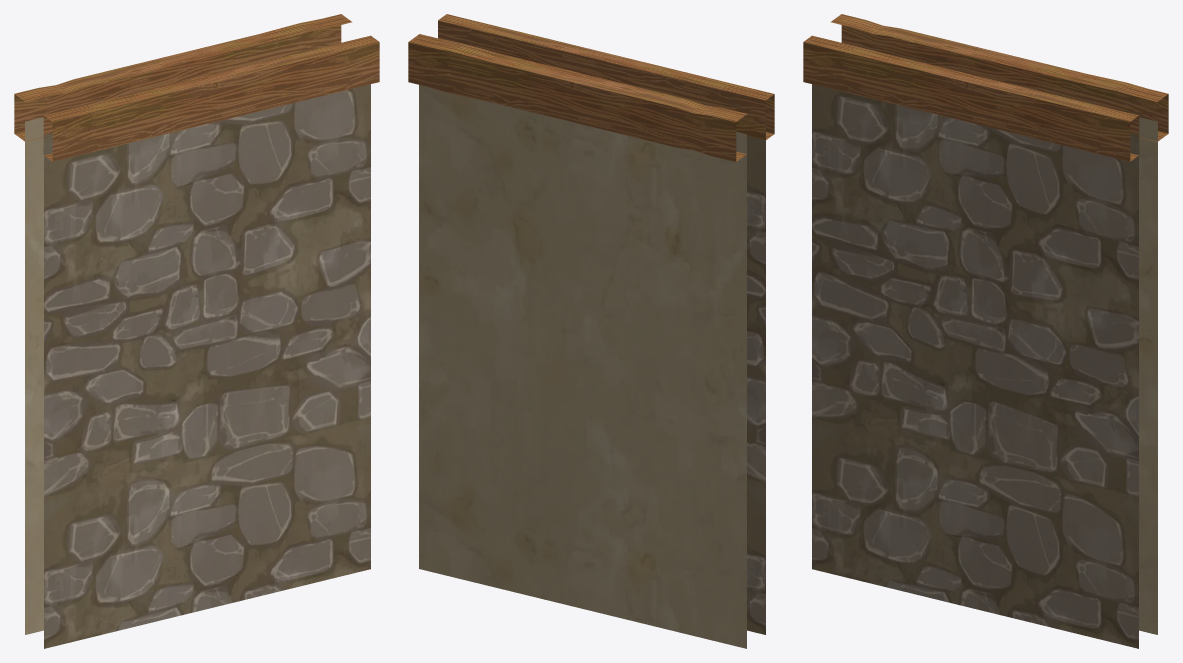
Rendered from wall_brick_straight.glb.
3 renders of one model, left to right at view 1: azimuth 30°, elevation 25°; view 2: azimuth 150°, elevation 25°; view 3: azimuth 330°, elevation 25°, orthographic.
Bounding box in the file's own units: 2 × 3.12 × 0.4064.
Materials: 3 (3 with a texture image).
